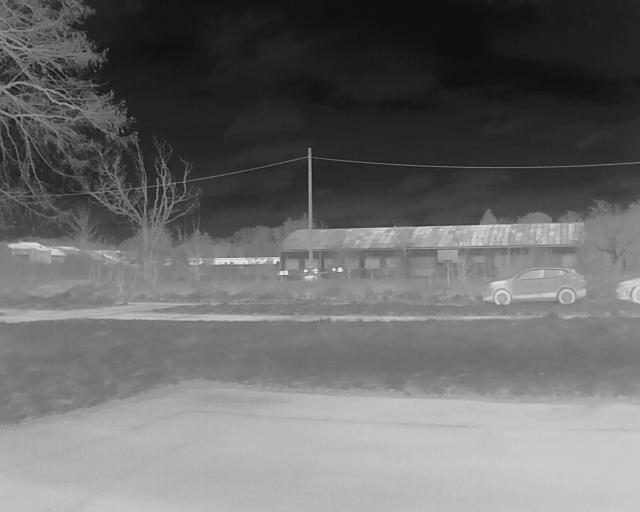drone: (273, 249, 350, 303)
